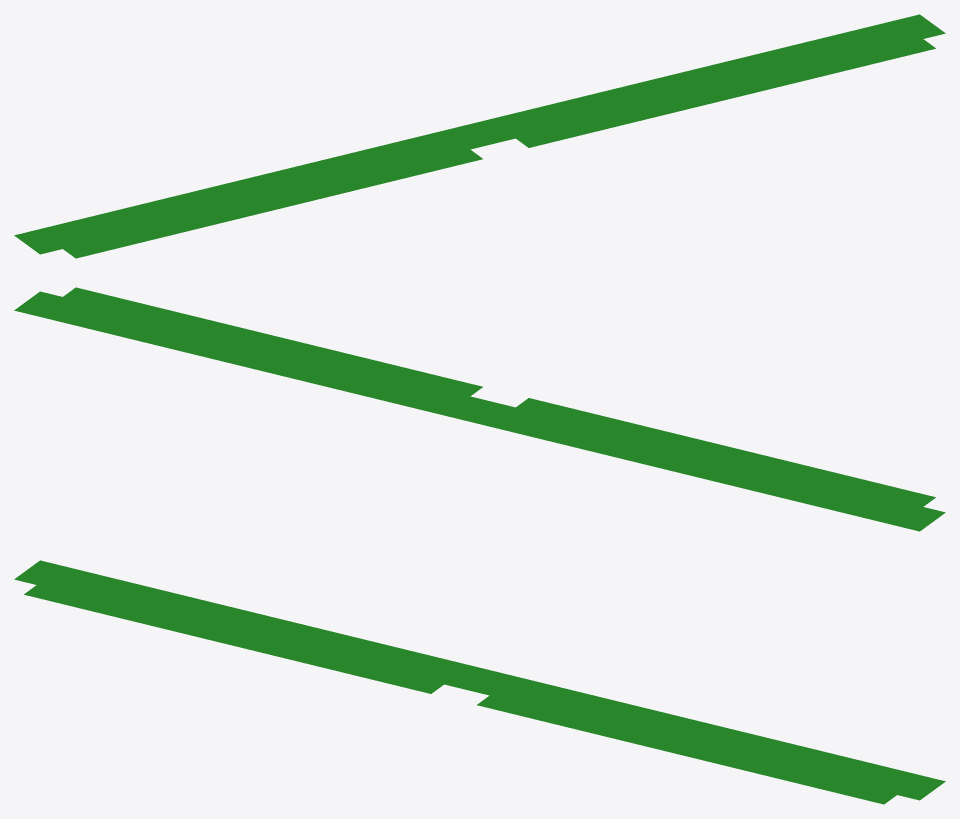
Rendered from Puzzle_002_Elevator_Shaft_Bottom_Top.fbx.
3 renders of one model, top to bottom at view 1: azimuth 30°, elevation 25°; view 2: azimuth 150°, elevation 25°; view 3: azimuth 330°, elevation 25°, orthographic.
Parts seen in each view (by area): view 1: Puzzle_002_Elevator_Shaft_Bottom_Top; view 2: Puzzle_002_Elevator_Shaft_Bottom_Top; view 3: Puzzle_002_Elevator_Shaft_Bottom_Top.
Boxes of the visible parts, box(x1,y1,x2,y2) form: Puzzle_002_Elevator_Shaft_Bottom_Top: box(14, 14, 945, 258); Puzzle_002_Elevator_Shaft_Bottom_Top: box(14, 287, 945, 531); Puzzle_002_Elevator_Shaft_Bottom_Top: box(14, 560, 945, 804).
Bounding box in the file's own units: 800 × 3.05e-05 × 60.
